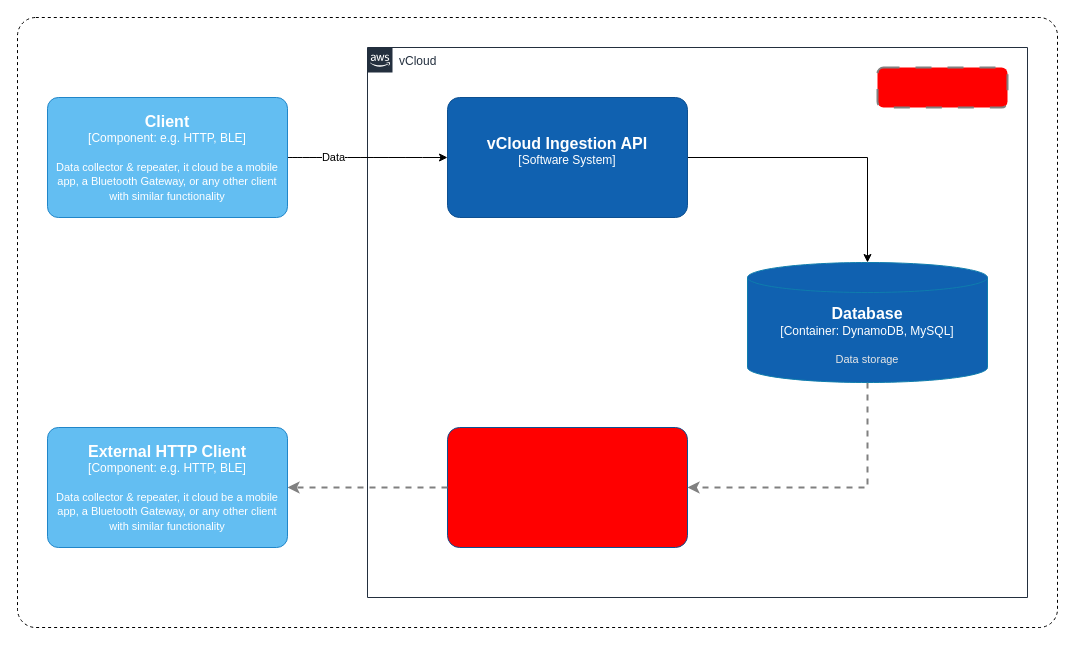
Image size: 1075x645. Some labels were removed from this diagram. The centre of each missing label's shape, as x and y in pixels:
"This System" belongs at [942,87].
"vCloud Query API [Software System]" belongs at [567,487].
